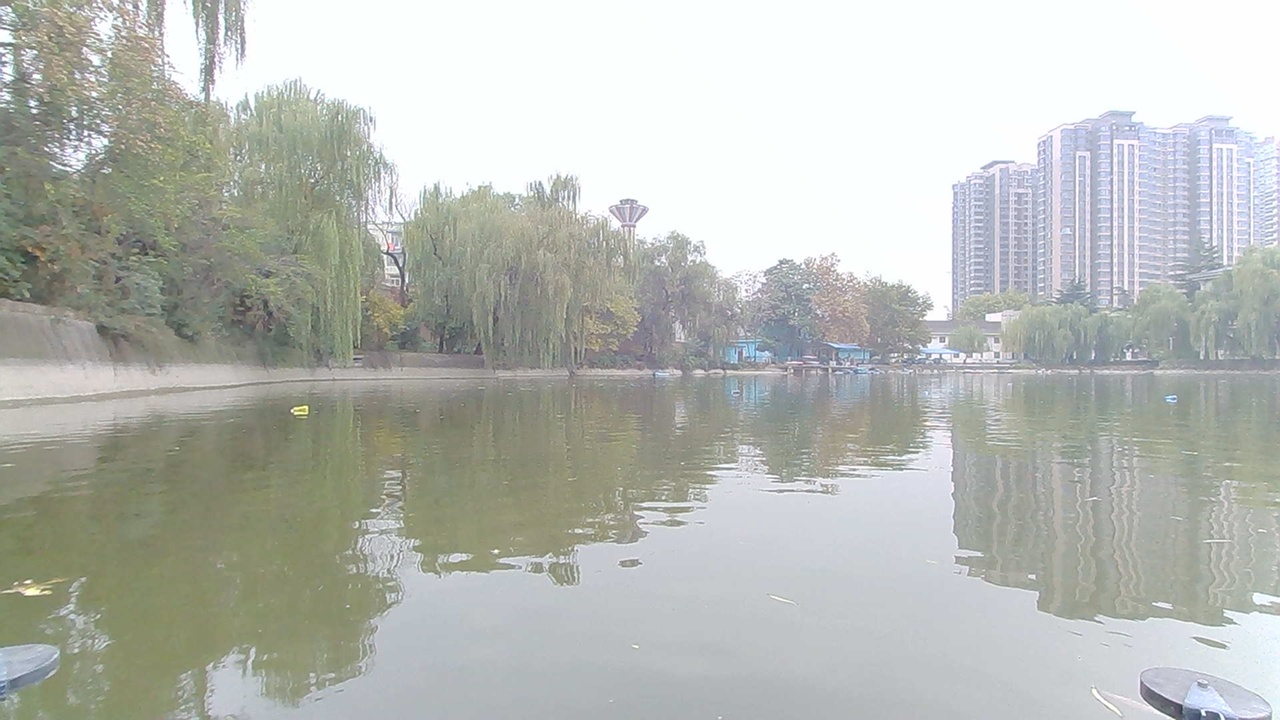bottle: (285, 400, 319, 423), (1162, 386, 1193, 409), (724, 386, 753, 401)
